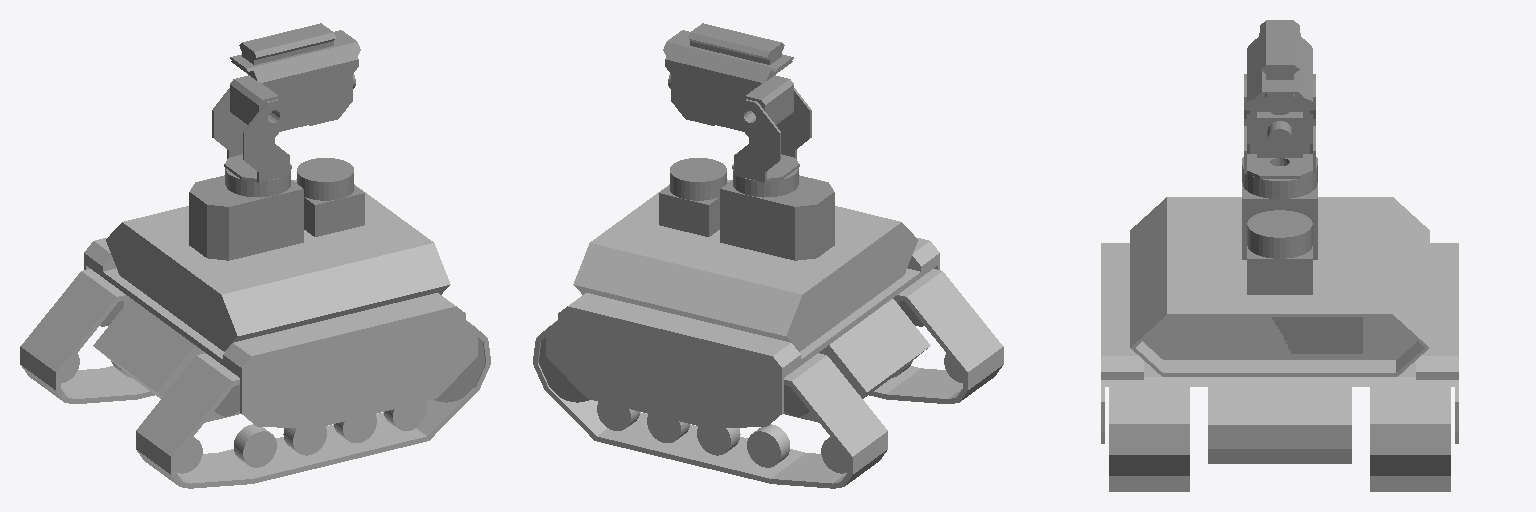
The robot description file, URDF, robot "ugv_beast":
<?xml version="1.0" encoding="utf-8"?>
<robot
  name="ugv_beast">
  <link name="base_footprint"></link>
  <link
    name="base_link">
    <inertial>
      <origin
        xyz="0.00354888755897578 5.76435566946675E-16 0.0484823949816299"
        rpy="0 0 0" />
      <mass
        value="2.03227373732274" />
      <inertia
        ixx="0.00454892624270289"
        ixy="1.88130381907213E-16"
        ixz="-1.49884111957882E-05"
        iyy="0.00640381872536097"
        iyz="2.79234562022245E-17"
        izz="0.00806050395736081" />
    </inertial>
    <visual>
      <origin
        xyz="0 0 0"
        rpy="0 0 0" />
      <geometry>
        <mesh
          filename="package://ugv_description/meshes/ugv_beast/base_link.stl" />
      </geometry>
      <material
        name="">
        <color
          rgba="0.752941176470588 0.752941176470588 0.752941176470588 1" />
      </material>
    </visual>
    <collision>
      <origin
        xyz="0 0 0"
        rpy="0 0 0" />
      <geometry>
        <mesh
          filename="package://ugv_description/meshes/ugv_beast/base_link.stl" />
      </geometry>
    </collision>
  </link>
  
    <joint name="base_joint" type="fixed">
    <parent link="base_footprint"/>
    <child link="base_link"/>
    <origin xyz="0.000460087791654118 6.50856019576702E-10 0.08" rpy="0 0 0"/> 
  </joint>
  
  <link name="base_imu_link"> 
      <origin xyz="0 0 0" rpy="0 0 0"/> 
  </link>
  
  <joint name="imu_joint" type="fixed">
      <parent link="base_link" />
      <child link="base_imu_link" />
      <origin xyz="0 0 0" rpy="0 0 0"/>
  </joint>
  
  <link
    name="left_up_wheel_link">
    <inertial>
      <origin
        xyz="1.85684800868557E-14 0.015500000552408 7.25114412958305E-16"
        rpy="0 0 0" />
      <mass
        value="0.0602574557338752" />
      <inertia
        ixx="1.41463499717618E-05"
        ixy="5.40675906873518E-18"
        ixz="2.24533090468138E-31"
        iyy="1.86414633348696E-05"
        iyz="1.86664834767948E-19"
        izz="1.41463499717618E-05" />
    </inertial>
    <visual>
      <origin
        xyz="0 0 0"
        rpy="0 0 0" />
      <geometry>
        <mesh
          filename="package://ugv_description/meshes/ugv_beast/left_up_wheel_link.stl" />
      </geometry>
      <material
        name="">
        <color
          rgba="0.627450980392157 0.627450980392157 0.627450980392157 1" />
      </material>
    </visual>
    <collision>
      <origin
        xyz="0 0 0"
        rpy="0 0 0" />
      <geometry>
        <mesh
          filename="package://ugv_description/meshes/ugv_beast/left_up_wheel_link.stl" />
      </geometry>
    </collision>
  </link>
  <joint
    name="left_up_wheel_link_joint"
    type="continuous">
    <origin
      xyz="0.0832175533230826 0.0619109945296507 0.0261492872743138"
      rpy="0 0 0" />
    <parent
      link="base_link" />
    <child
      link="left_up_wheel_link" />
    <axis
      xyz="0 -1 0" />
  </joint>
  <link
    name="left_down_wheel_link">
    <inertial>
      <origin
        xyz="7.2025718722557E-15 0.00599999763555432 3.33066907387547E-16"
        rpy="0 0 0" />
      <mass
        value="0.00565722297095184" />
      <inertia
        ixx="2.80120931171082E-07"
        ixy="1.73012571052522E-19"
        ixz="7.08181663938282E-33"
        iyy="4.2446851103923E-07"
        iyz="5.90904673131262E-21"
        izz="2.80120931171082E-07" />
    </inertial>
    <visual>
      <origin
        xyz="0 0 0"
        rpy="0 0 0" />
      <geometry>
        <mesh
          filename="package://ugv_description/meshes/ugv_beast/left_down_wheel_link.stl" />
      </geometry>
      <material
        name="">
        <color
          rgba="0.627450980392157 0.627450980392157 0.627450980392157 1" />
      </material>
    </visual>
    <collision>
      <origin
        xyz="0 0 0"
        rpy="0 0 0" />
      <geometry>
        <mesh
          filename="package://ugv_description/meshes/ugv_beast/left_down_wheel_link.stl" />
      </geometry>
    </collision>
  </link>
  <joint
    name="left_down_wheel_link_joint"
    type="continuous">
    <origin
      xyz="-0.0722382907996229 0.0707110003635451 0.0356492872743132"
      rpy="0 0 0" />
    <parent
      link="base_link" />
    <child
      link="left_down_wheel_link" />
    <axis
      xyz="0 -1 0" />
  </joint>
  <link
    name="right_up_wheel_link">
    <inertial>
      <origin
        xyz="1.83603132697385E-14 -0.015500000552408 7.25114412958305E-16"
        rpy="0 0 0" />
      <mass
        value="0.0602574557338752" />
      <inertia
        ixx="1.41463499717618E-05"
        ixy="-5.34398065104604E-18"
        ixz="2.21929095291762E-31"
        iyy="1.86414633348696E-05"
        iyz="-1.86664834767948E-19"
        izz="1.41463499717618E-05" />
    </inertial>
    <visual>
      <origin
        xyz="0 0 0"
        rpy="0 0 0" />
      <geometry>
        <mesh
          filename="package://ugv_description/meshes/ugv_beast/right_up_wheel_link.stl" />
      </geometry>
      <material
        name="">
        <color
          rgba="0.627450980392157 0.627450980392157 0.627450980392157 1" />
      </material>
    </visual>
    <collision>
      <origin
        xyz="0 0 0"
        rpy="0 0 0" />
      <geometry>
        <mesh
          filename="package://ugv_description/meshes/ugv_beast/right_up_wheel_link.stl" />
      </geometry>
    </collision>
  </link>
  <joint
    name="right_up_wheel_link_joint"
    type="continuous">
    <origin
      xyz="0.0832175533230817 -0.0619109945296519 0.0261492872743138"
      rpy="0 0 0" />
    <parent
      link="base_link" />
    <child
      link="right_up_wheel_link" />
    <axis
      xyz="0 -1 0" />
  </joint>
  <link
    name="right_down_wheel_link">
    <inertial>
      <origin
        xyz="7.13318293321663E-15 -0.00599999763555434 3.33066907387547E-16"
        rpy="0 0 0" />
      <mass
        value="0.00565722297095184" />
      <inertia
        ixx="2.80120931171082E-07"
        ixy="-1.70986035603665E-19"
        ixz="6.99903667727259E-33"
        iyy="4.2446851103923E-07"
        iyz="-5.90904673131262E-21"
        izz="2.80120931171082E-07" />
    </inertial>
    <visual>
      <origin
        xyz="0 0 0"
        rpy="0 0 0" />
      <geometry>
        <mesh
          filename="package://ugv_description/meshes/ugv_beast/right_down_wheel_link.stl" />
      </geometry>
      <material
        name="">
        <color
          rgba="0.627450980392157 0.627450980392157 0.627450980392157 1" />
      </material>
    </visual>
    <collision>
      <origin
        xyz="0 0 0"
        rpy="0 0 0" />
      <geometry>
        <mesh
          filename="package://ugv_description/meshes/ugv_beast/right_down_wheel_link.stl" />
      </geometry>
    </collision>
  </link>
  <joint
    name="right_down_wheel_link_joint"
    type="continuous">
    <origin
      xyz="-0.0722382907996239 -0.0707110003635441 0.0356492872743132"
      rpy="0 0 0" />
    <parent
      link="base_link" />
    <child
      link="right_down_wheel_link" />
    <axis
      xyz="0 1 0" />
  </joint>
  <link
    name="3d_camera_link">
    <inertial>
      <origin
        xyz="0.00849999999999999 -6.20230426557913E-17 0"
        rpy="1.5708 1.5708 0" />
      <mass
        value="0.043316" />
      <inertia
        ixx="3.27216283333333E-05"
        ixy="-2.01335432272409E-19"
        ixz="-1.19114008207638E-22"
        iyy="3.87317233333333E-06"
        iyz="-2.37303626261453E-22"
        izz="3.09348433333333E-05" />
    </inertial>
    <visual>
      <origin
        xyz="0 0 0"
        rpy="1.5708 1.5708 0" />
      <geometry>
        <mesh
          filename="package://ugv_description/meshes/ugv_beast/3d_camera_link.stl" />
      </geometry>
      <material
        name="">
        <color
          rgba="0.627450980392157 0.627450980392157 0.627450980392157 1" />
      </material>
    </visual>
    <collision>
      <origin
        xyz="0 0 0"
        rpy="1.5708 1.5708 0" />
      <geometry>
        <mesh
          filename="package://ugv_description/meshes/ugv_beast/3d_camera_link.stl" />
      </geometry>
    </collision>
  </link>
  <joint
    name="3d_camera_link_joint"
    type="fixed">
    <origin
      xyz="0.069874862129561 0 0.0792560807319928"
      rpy="-1.5708 0 -1.5708" />
    <parent
      link="base_link" />
    <child
      link="3d_camera_link" />
    <axis
      xyz="0 0 0" />
  </joint>
  <link
    name="base_lidar_link">
    <inertial>
      <origin
        xyz="-6.93889390390723E-18 -1.96708838451151E-18 0.0165546434494574"
        rpy="0 0 0" />
      <mass
        value="0.0418000091653573" />
      <inertia
        ixx="8.26853377699878E-06"
        ixy="-1.03397576569261E-22"
        ixz="-2.71740984786046E-22"
        iyy="8.26853377699876E-06"
        iyz="5.86109969113615E-23"
        izz="8.32524607487378E-06" />
    </inertial>
    <visual>
      <origin
        xyz="0 0 0"
        rpy="0 0 0" />
      <geometry>
        <mesh
          filename="package://ugv_description/meshes/ugv_beast/base_lidar_link.stl" />
      </geometry>
      <material
        name="">
        <color
          rgba="0.627450980392157 0.627450980392157 0.627450980392157 1" />
      </material>
    </visual>
    <collision>
      <origin
        xyz="0 0 0"
        rpy="0 0 0" />
      <geometry>
        <mesh
          filename="package://ugv_description/meshes/ugv_beast/base_lidar_link.stl" />
      </geometry>
    </collision>
  </link>
  <joint
    name="base_lidar_link_joint"
    type="fixed">
    <origin
      xyz="0.0443794126815426 0 0.0973030807319928"
      rpy="0 0 0" />
    <parent
      link="base_link" />
    <child
      link="base_lidar_link" />
    <axis
      xyz="0 0 0" />
  </joint>
  <link
    name="pt_base_link">
    <inertial>
      <origin
        xyz="0.00127554206615719 2.79398301127343E-15 0.0215158687368638"
        rpy="0 0 0" />
      <mass
        value="0.109518186442022" />
      <inertia
        ixx="3.30168147078049E-05"
        ixy="-2.59519377344745E-18"
        ixz="-2.93137934608679E-06"
        iyy="5.1580984319637E-05"
        iyz="-6.30528721442011E-18"
        izz="4.86101329827053E-05" />
    </inertial>
    <visual>
      <origin
        xyz="0 0 0"
        rpy="0 0 0" />
      <geometry>
        <mesh
          filename="package://ugv_description/meshes/ugv_beast/pt_base_link.stl" />
      </geometry>
      <material
        name="">
        <color
          rgba="0.627450980392157 0.627450980392157 0.627450980392157 1" />
      </material>
    </visual>
    <collision>
      <origin
        xyz="0 0 0"
        rpy="0 0 0" />
      <geometry>
        <mesh
          filename="package://ugv_description/meshes/ugv_beast/pt_base_link.stl" />
      </geometry>
    </collision>
  </link>
  <joint
    name="pt_base_link_joint"
    type="fixed">
    <origin
      xyz="-0.0143274614150036 0 0.0973030807319928"
      rpy="0 0 0" />
    <parent
      link="base_link" />
    <child
      link="pt_base_link" />
    <axis
      xyz="0 0 0" />
  </joint>
  <link
    name="pt_link1">
    <inertial>
      <origin
        xyz="-0.00338129216527271 1.03496094682257E-15 0.0176096758355075"
        rpy="0 0 0" />
      <mass
        value="0.00710917409663916" />
      <inertia
        ixx="3.89716322571471E-06"
        ixy="-3.30348820061167E-19"
        ixz="2.3291936613051E-07"
        iyy="2.4980668051168E-06"
        iyz="-2.89344689202842E-19"
        izz="2.60402792588347E-06" />
    </inertial>
    <visual>
      <origin
        xyz="0 0 0"
        rpy="0 0 0" />
      <geometry>
        <mesh
          filename="package://ugv_description/meshes/ugv_beast/pt_link1.stl" />
      </geometry>
      <material
        name="">
        <color
          rgba="0.627450980392157 0.627450980392157 0.627450980392157 1" />
      </material>
    </visual>
    <collision>
      <origin
        xyz="0 0 0"
        rpy="0 0 0" />
      <geometry>
        <mesh
          filename="package://ugv_description/meshes/ugv_beast/pt_link1.stl" />
      </geometry>
    </collision>
  </link>
  <joint
    name="pt_base_link_to_pt_link1"
    type="revolute">
    <origin
      xyz="0.010151 0 0.048"
      rpy="0 0 0" />
    <parent
      link="pt_base_link" />
    <child
      link="pt_link1" />
    <axis
      xyz="0 0 -1" />
    <limit
      lower="-3.14"
      upper="3.14"
      effort="0"
      velocity="0" />
  </joint>
  <link
    name="pt_link2">
    <inertial>
      <origin
        xyz="0.0218201278828439 0.01195900026438 0.020000000000001"
        rpy="0 0 0" />
      <mass
        value="0.0970496053012515" />
      <inertia
        ixx="3.07158301509253E-05"
        ixy="-9.60865010663642E-07"
        ixz="-1.05774445029445E-19"
        iyy="3.74067734460567E-05"
        iyz="-1.71534698932683E-18"
        izz="4.94991610517831E-05" />
    </inertial>
    <visual>
      <origin
        xyz="0 0 0"
        rpy="0 0 0" />
      <geometry>
        <mesh
          filename="package://ugv_description/meshes/ugv_beast/pt_link2.stl" />
      </geometry>
      <material
        name="">
        <color
          rgba="0.627450980392157 0.627450980392157 0.627450980392157 1" />
      </material>
    </visual>
    <collision>
      <origin
        xyz="0 0 0"
        rpy="0 0 0" />
      <geometry>
        <mesh
          filename="package://ugv_description/meshes/ugv_beast/pt_link2.stl" />
      </geometry>
    </collision>
  </link>
  <joint
    name="pt_link1_to_pt_link2"
    type="revolute">
    <origin
      xyz="0 0.02 0.043003"
      rpy="1.5708 0 0" />
    <parent
      link="pt_link1" />
    <child
      link="pt_link2" />
    <axis
      xyz="0 0 1" />
    <limit
      lower="-0.5233333"
      upper="1.5707963"
      effort="0"
      velocity="0" />
  </joint>
  <link
    name="pt_camera_link">
    <inertial>
      <origin
        xyz="0.00630730338217479 -5.20013413546207E-17 0.000950308188413934"
        rpy="0 -1.5708 1.5708" />
      <mass
        value="0.00623651844028495" />
      <inertia
        ixx="5.11295942352593E-07"
        ixy="-4.50040932181143E-22"
        ixz="-4.00917493406375E-08"
        iyy="3.99078324787848E-07"
        iyz="4.11363605148623E-22"
        izz="4.02518684222241E-07" />
    </inertial>
    <visual>
      <origin
        xyz="0 0 0"
        rpy="0 -1.5708 1.5708" />
      <geometry>
        <mesh
          filename="package://ugv_description/meshes/ugv_beast/pt_camera_link.stl" />
      </geometry>
      <material
        name="">
        <color
          rgba="0.627450980392157 0.627450980392157 0.627450980392157 1" />
      </material>
    </visual>
    <collision>
      <origin
        xyz="0 0 0"
        rpy="0 -1.5708 1.5708" />
      <geometry>
        <mesh
          filename="package://ugv_description/meshes/ugv_beast/pt_camera_link.stl" />
      </geometry>
    </collision>
  </link>
  <joint
    name="pt_link2_to_pt_camera_link"
    type="fixed">
    <origin
      xyz="0.0476858338436577 -0.000568997109077291 0.0199999999999997"
      rpy="3.14 -1.5708 0" />
    <parent
      link="pt_link2" />
    <child
      link="pt_camera_link" />
    <axis
      xyz="0 0 0" />
  </joint>
</robot>

--- Facts derived from the render (not from the file) ---
Views: 3 orthographic renders of the robot side by side, from view 1: azimuth 30°, elevation 25°; view 2: azimuth 150°, elevation 25°; view 3: azimuth 270°, elevation 25°.
Robot: ugv_beast — 13 links, 12 joints (2 revolute, 4 continuous, 6 fixed); root link base_footprint; default pose: all joints at 0.
Links seen in each view (by area): view 1: base_link, pt_link2, pt_base_link, pt_link1, base_lidar_link, right_up_wheel_link; view 2: base_link, pt_link2, pt_base_link, pt_link1, base_lidar_link, left_up_wheel_link; view 3: base_link, pt_link2, base_lidar_link, pt_base_link, 3d_camera_link, pt_camera_link, pt_link1.
Link boxes in pixels (x1,y1,x2,y2): base_link: [20, 179, 490, 488]; pt_link2: [230, 23, 360, 131]; pt_base_link: [189, 168, 303, 260]; pt_link1: [212, 88, 291, 182]; base_lidar_link: [295, 158, 364, 236]; right_up_wheel_link: [434, 337, 484, 402]; base_link: [533, 179, 1003, 488]; pt_link2: [663, 23, 793, 131]; pt_base_link: [720, 168, 834, 260]; pt_link1: [732, 88, 811, 182]; base_lidar_link: [659, 158, 728, 236]; left_up_wheel_link: [539, 337, 589, 402]; base_link: [1101, 197, 1458, 491]; pt_link2: [1247, 20, 1312, 153]; base_lidar_link: [1247, 210, 1312, 294]; pt_base_link: [1242, 157, 1317, 259]; 3d_camera_link: [1272, 317, 1362, 353]; pt_camera_link: [1257, 112, 1302, 157]; pt_link1: [1244, 74, 1315, 178].
Size in the robot's own frame: 0.2306 by 0.1968 by 0.2508 metres.
Meshes: 11 distinct files referenced, 11 mesh visuals loaded (11 binary STL).